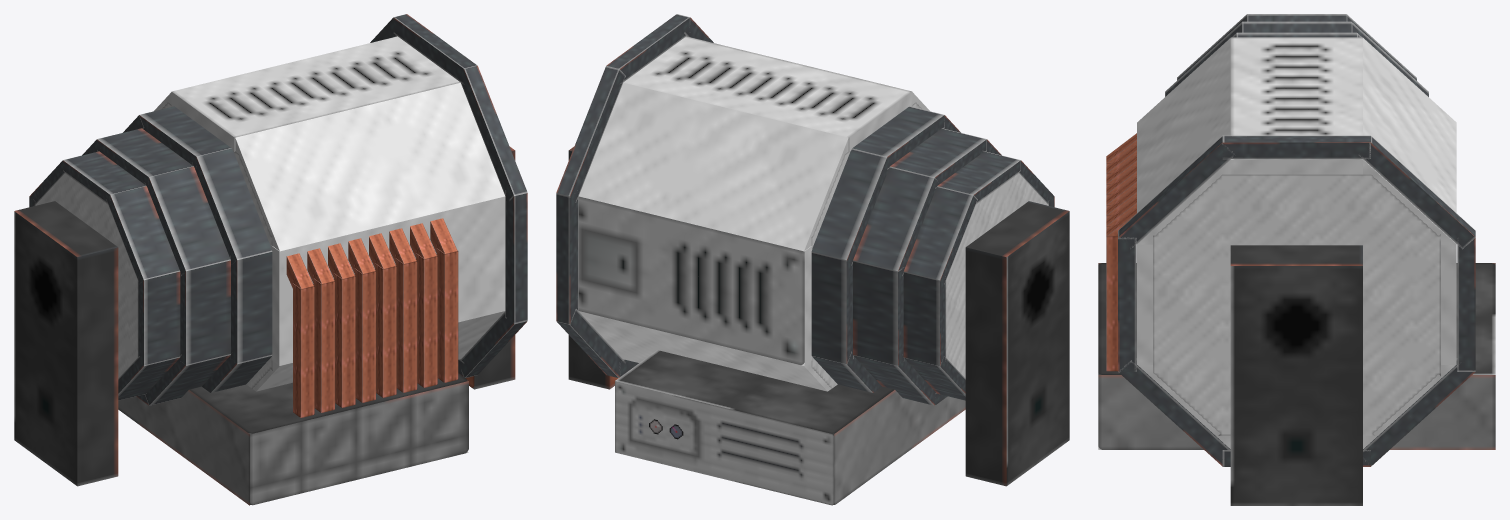
The model's file is steam_turbine.obj.
The picture shows the model from 3 angles, left to right: view 1: azimuth 30°, elevation 25°; view 2: azimuth 150°, elevation 25°; view 3: azimuth 270°, elevation 25°; orthographic projection. The views are drawn at different scales.
Parts seen in each view (by area): view 1: turbine_wall_0_3, baseplate, coupler1, turbine_wall_0_4, turbine_wall_0_2, step_section_ring_1_7, step_section_ring_1_6, step_section_ring_2_7, front_cutout_wall, step_section_ring_2_6, step_section_ring_0_7, step_section_ring_0_6 (+29 smaller); view 2: baseplate, turbine_wall_0_5, turbine_wall_0_6, coupler1, turbine_wall_0_4, turbine_wall_0_7, step_section_ring_1_1, step_section_ring_1_2, step_section_ring_2_1, front_cutout_wall, step_section_ring_2_2, step_section_ring_0_1 (+13 smaller); view 3: back_cutout_wall, coupler0, turbine_wall_0_4, baseplate, turbine_wall_0_3, turbine_wall_0_5, main_body_ring_0, main_body_ring_1, main_body_ring_7, main_body_ring_6, main_body_ring_2, main_body_ring_5 (+11 smaller).
Boxes of the visible parts, <box> form: turbine_wall_0_3: <box>235,82,504,251</box>; baseplate: <box>118,373,468,505</box>; coupler1: <box>14,201,118,486</box>; turbine_wall_0_4: <box>171,36,460,151</box>; turbine_wall_0_2: <box>271,196,505,365</box>; step_section_ring_1_7: <box>144,166,230,275</box>; step_section_ring_1_6: <box>180,260,230,365</box>; step_section_ring_2_7: <box>192,148,272,263</box>; front_cutout_wall: <box>35,173,137,378</box>; step_section_ring_2_6: <box>230,252,272,364</box>; step_section_ring_0_7: <box>106,186,179,282</box>; step_section_ring_0_6: <box>138,271,180,366</box>; baseplate: <box>615,350,965,505</box>; turbine_wall_0_5: <box>579,82,848,251</box>; turbine_wall_0_6: <box>578,196,812,365</box>; coupler1: <box>965,201,1069,486</box>; turbine_wall_0_4: <box>623,36,912,151</box>; turbine_wall_0_7: <box>578,311,830,391</box>; step_section_ring_1_1: <box>853,166,937,275</box>; step_section_ring_1_2: <box>853,260,904,365</box>; step_section_ring_2_1: <box>811,148,888,265</box>; front_cutout_wall: <box>946,173,1048,378</box>; step_section_ring_2_2: <box>811,252,853,364</box>; step_section_ring_0_1: <box>904,186,977,284</box>; back_cutout_wall: <box>1153,174,1440,435</box>; coupler0: <box>1230,245,1362,505</box>; turbine_wall_0_4: <box>1230,37,1362,174</box>; baseplate: <box>1098,263,1495,449</box>; turbine_wall_0_3: <box>1137,38,1233,244</box>; turbine_wall_0_5: <box>1363,38,1456,244</box>; main_body_ring_0: <box>1222,135,1370,159</box>; main_body_ring_1: <box>1359,136,1475,249</box>; main_body_ring_7: <box>1118,136,1234,248</box>; main_body_ring_6: <box>1118,237,1136,371</box>; main_body_ring_2: <box>1457,237,1475,371</box>; main_body_ring_5: <box>1118,358,1229,466</box>.
Size of the model in its own units: 4 by 2.85 by 3.
